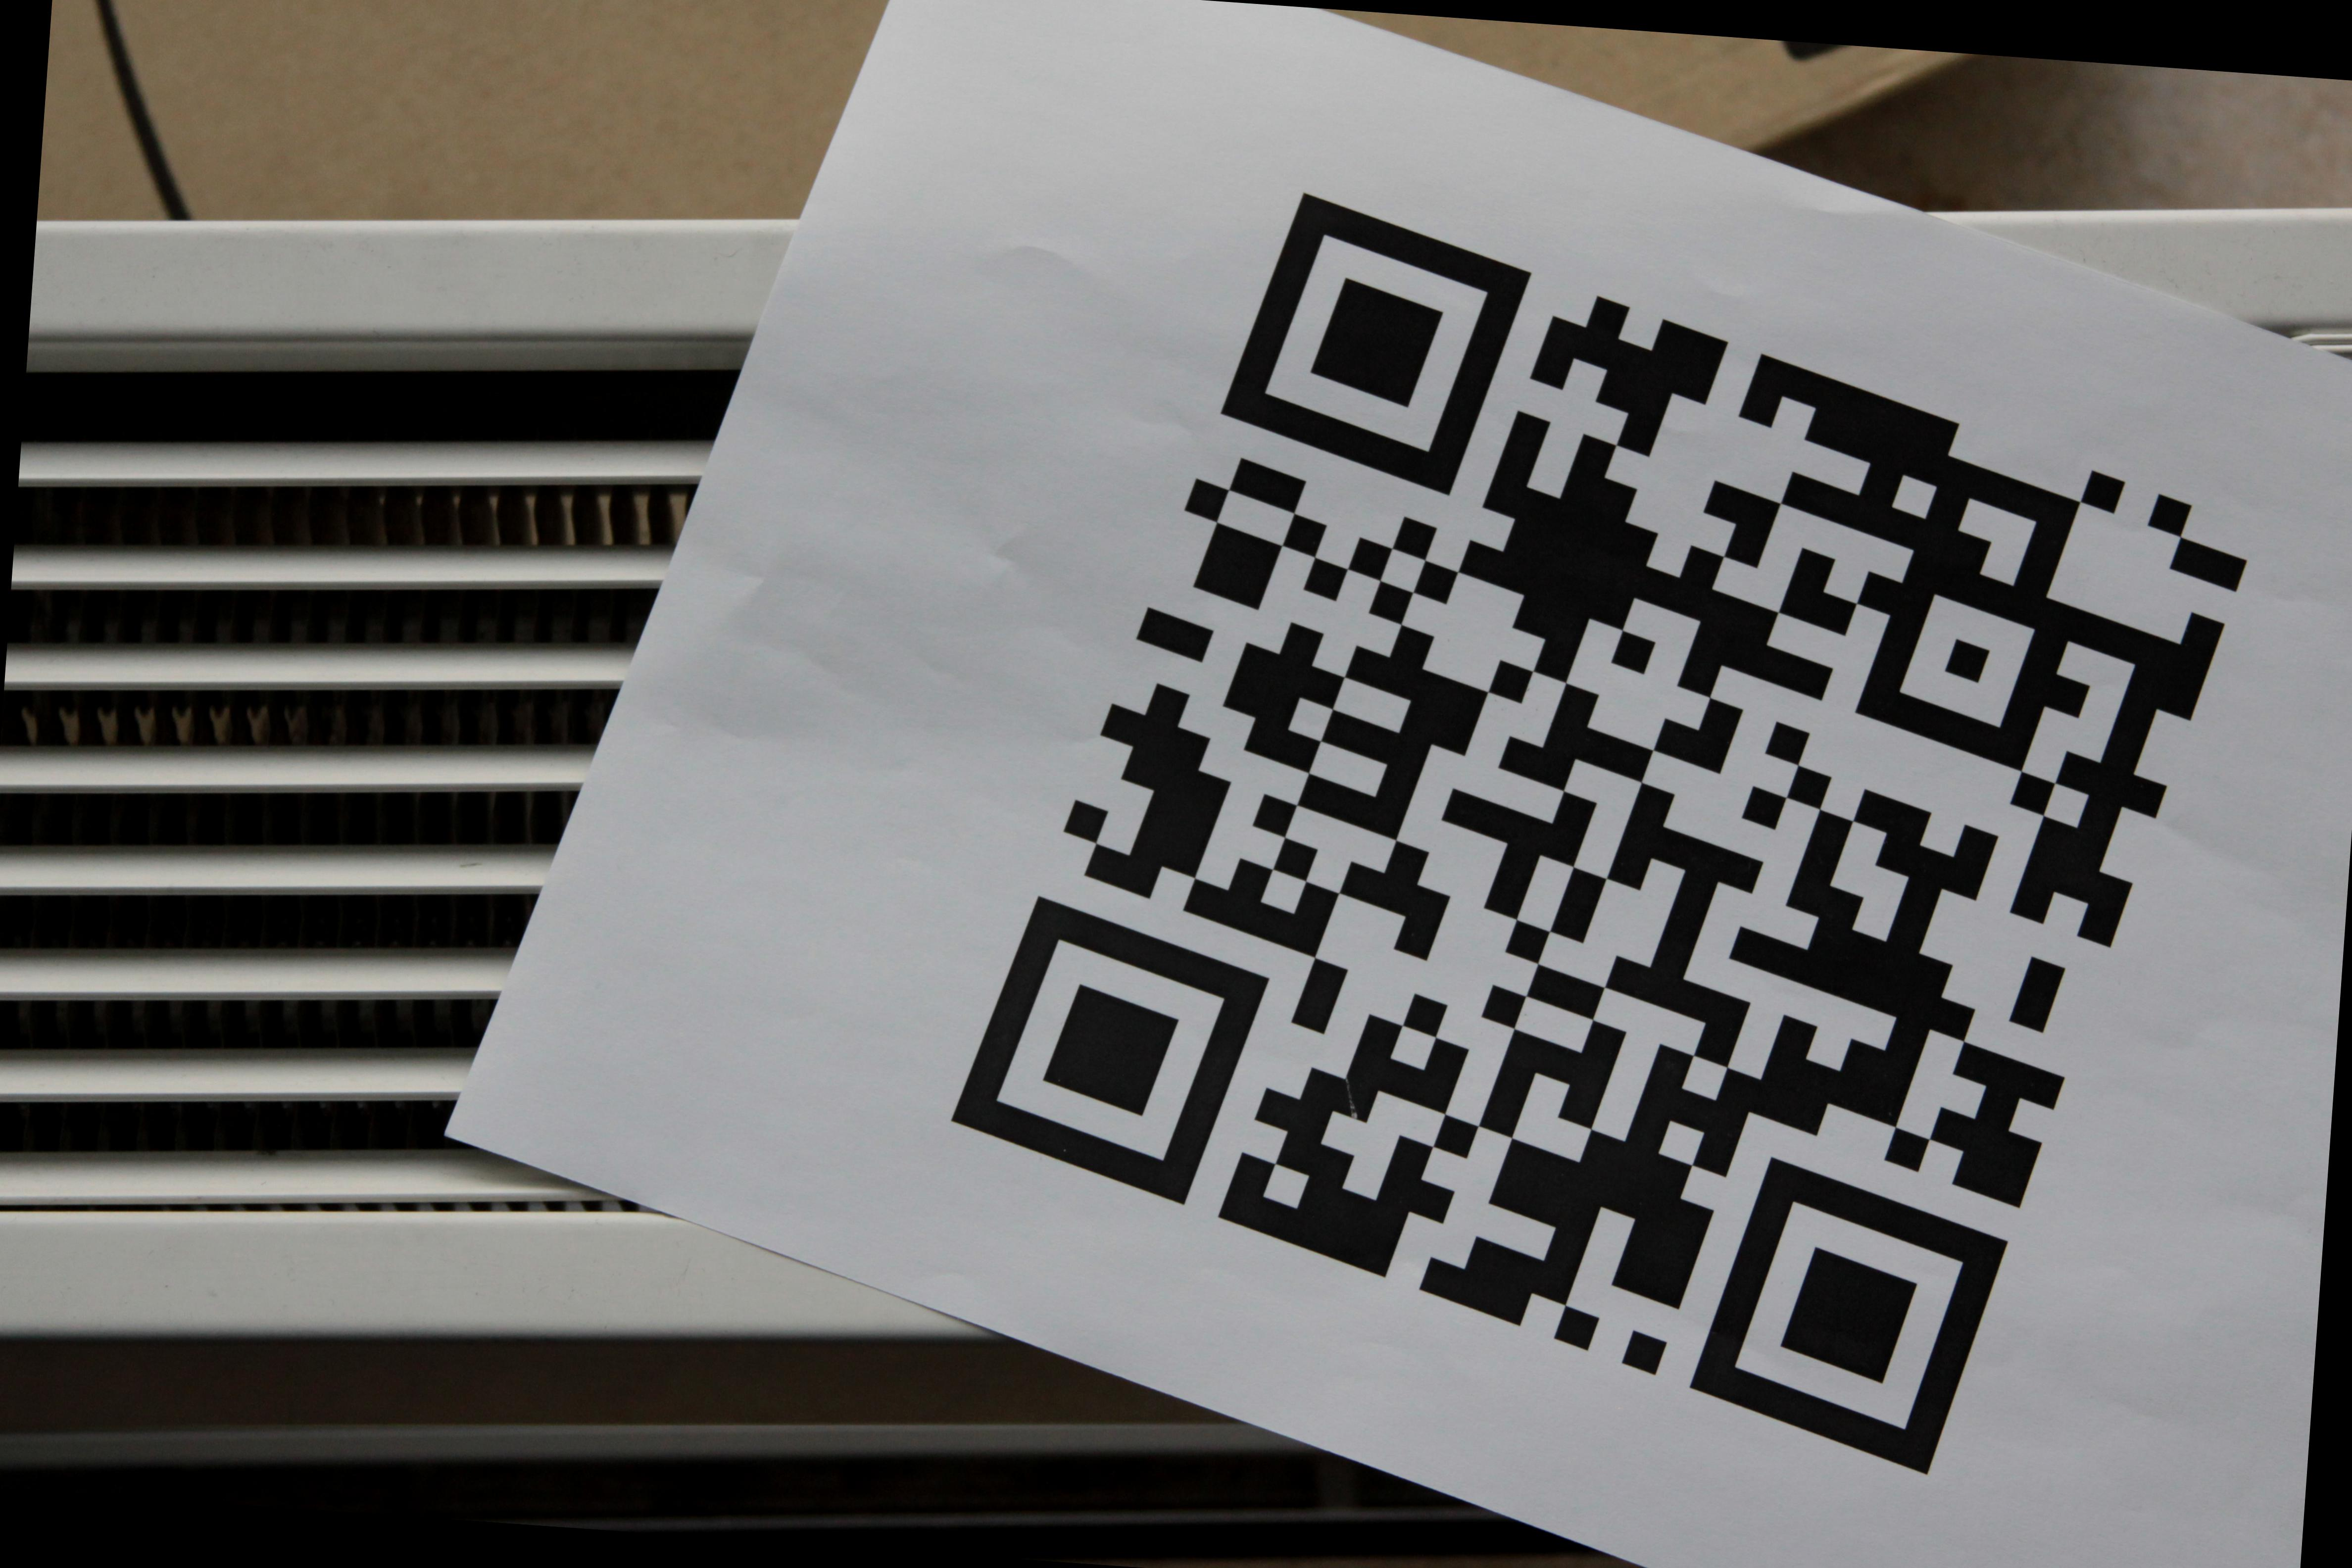QR: (957, 159, 2252, 1472)
